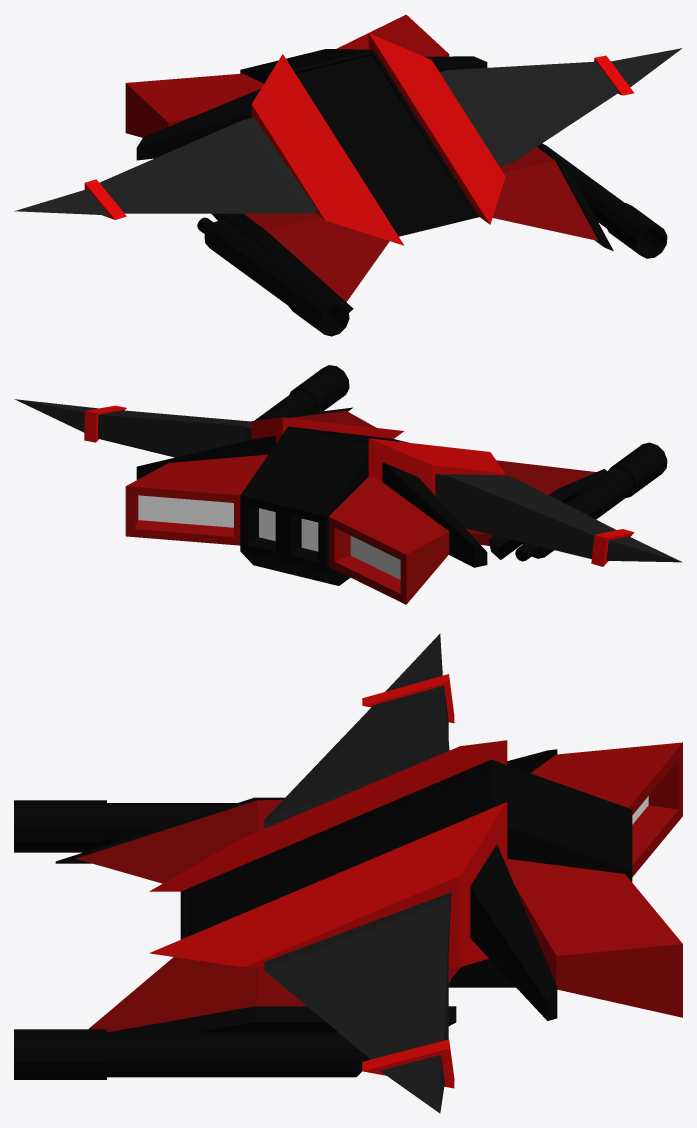
The model's file is Spaceship_02.fbx.
The picture shows the model from 3 angles, top to bottom: view 1: azimuth 30°, elevation 25°; view 2: azimuth 150°, elevation 25°; view 3: azimuth 270°, elevation 25°; orthographic projection. The views are drawn at different scales.
Visible parts, largest first — view 1: Spaceship_02; view 2: Spaceship_02; view 3: Spaceship_02.
Boxes of the visible parts, box(x1,y1,x2,y2) form: Spaceship_02: box(14, 14, 682, 336); Spaceship_02: box(14, 365, 682, 604); Spaceship_02: box(14, 633, 682, 1113).
Size of the model in its own units: 1550 by 290 by 912.
